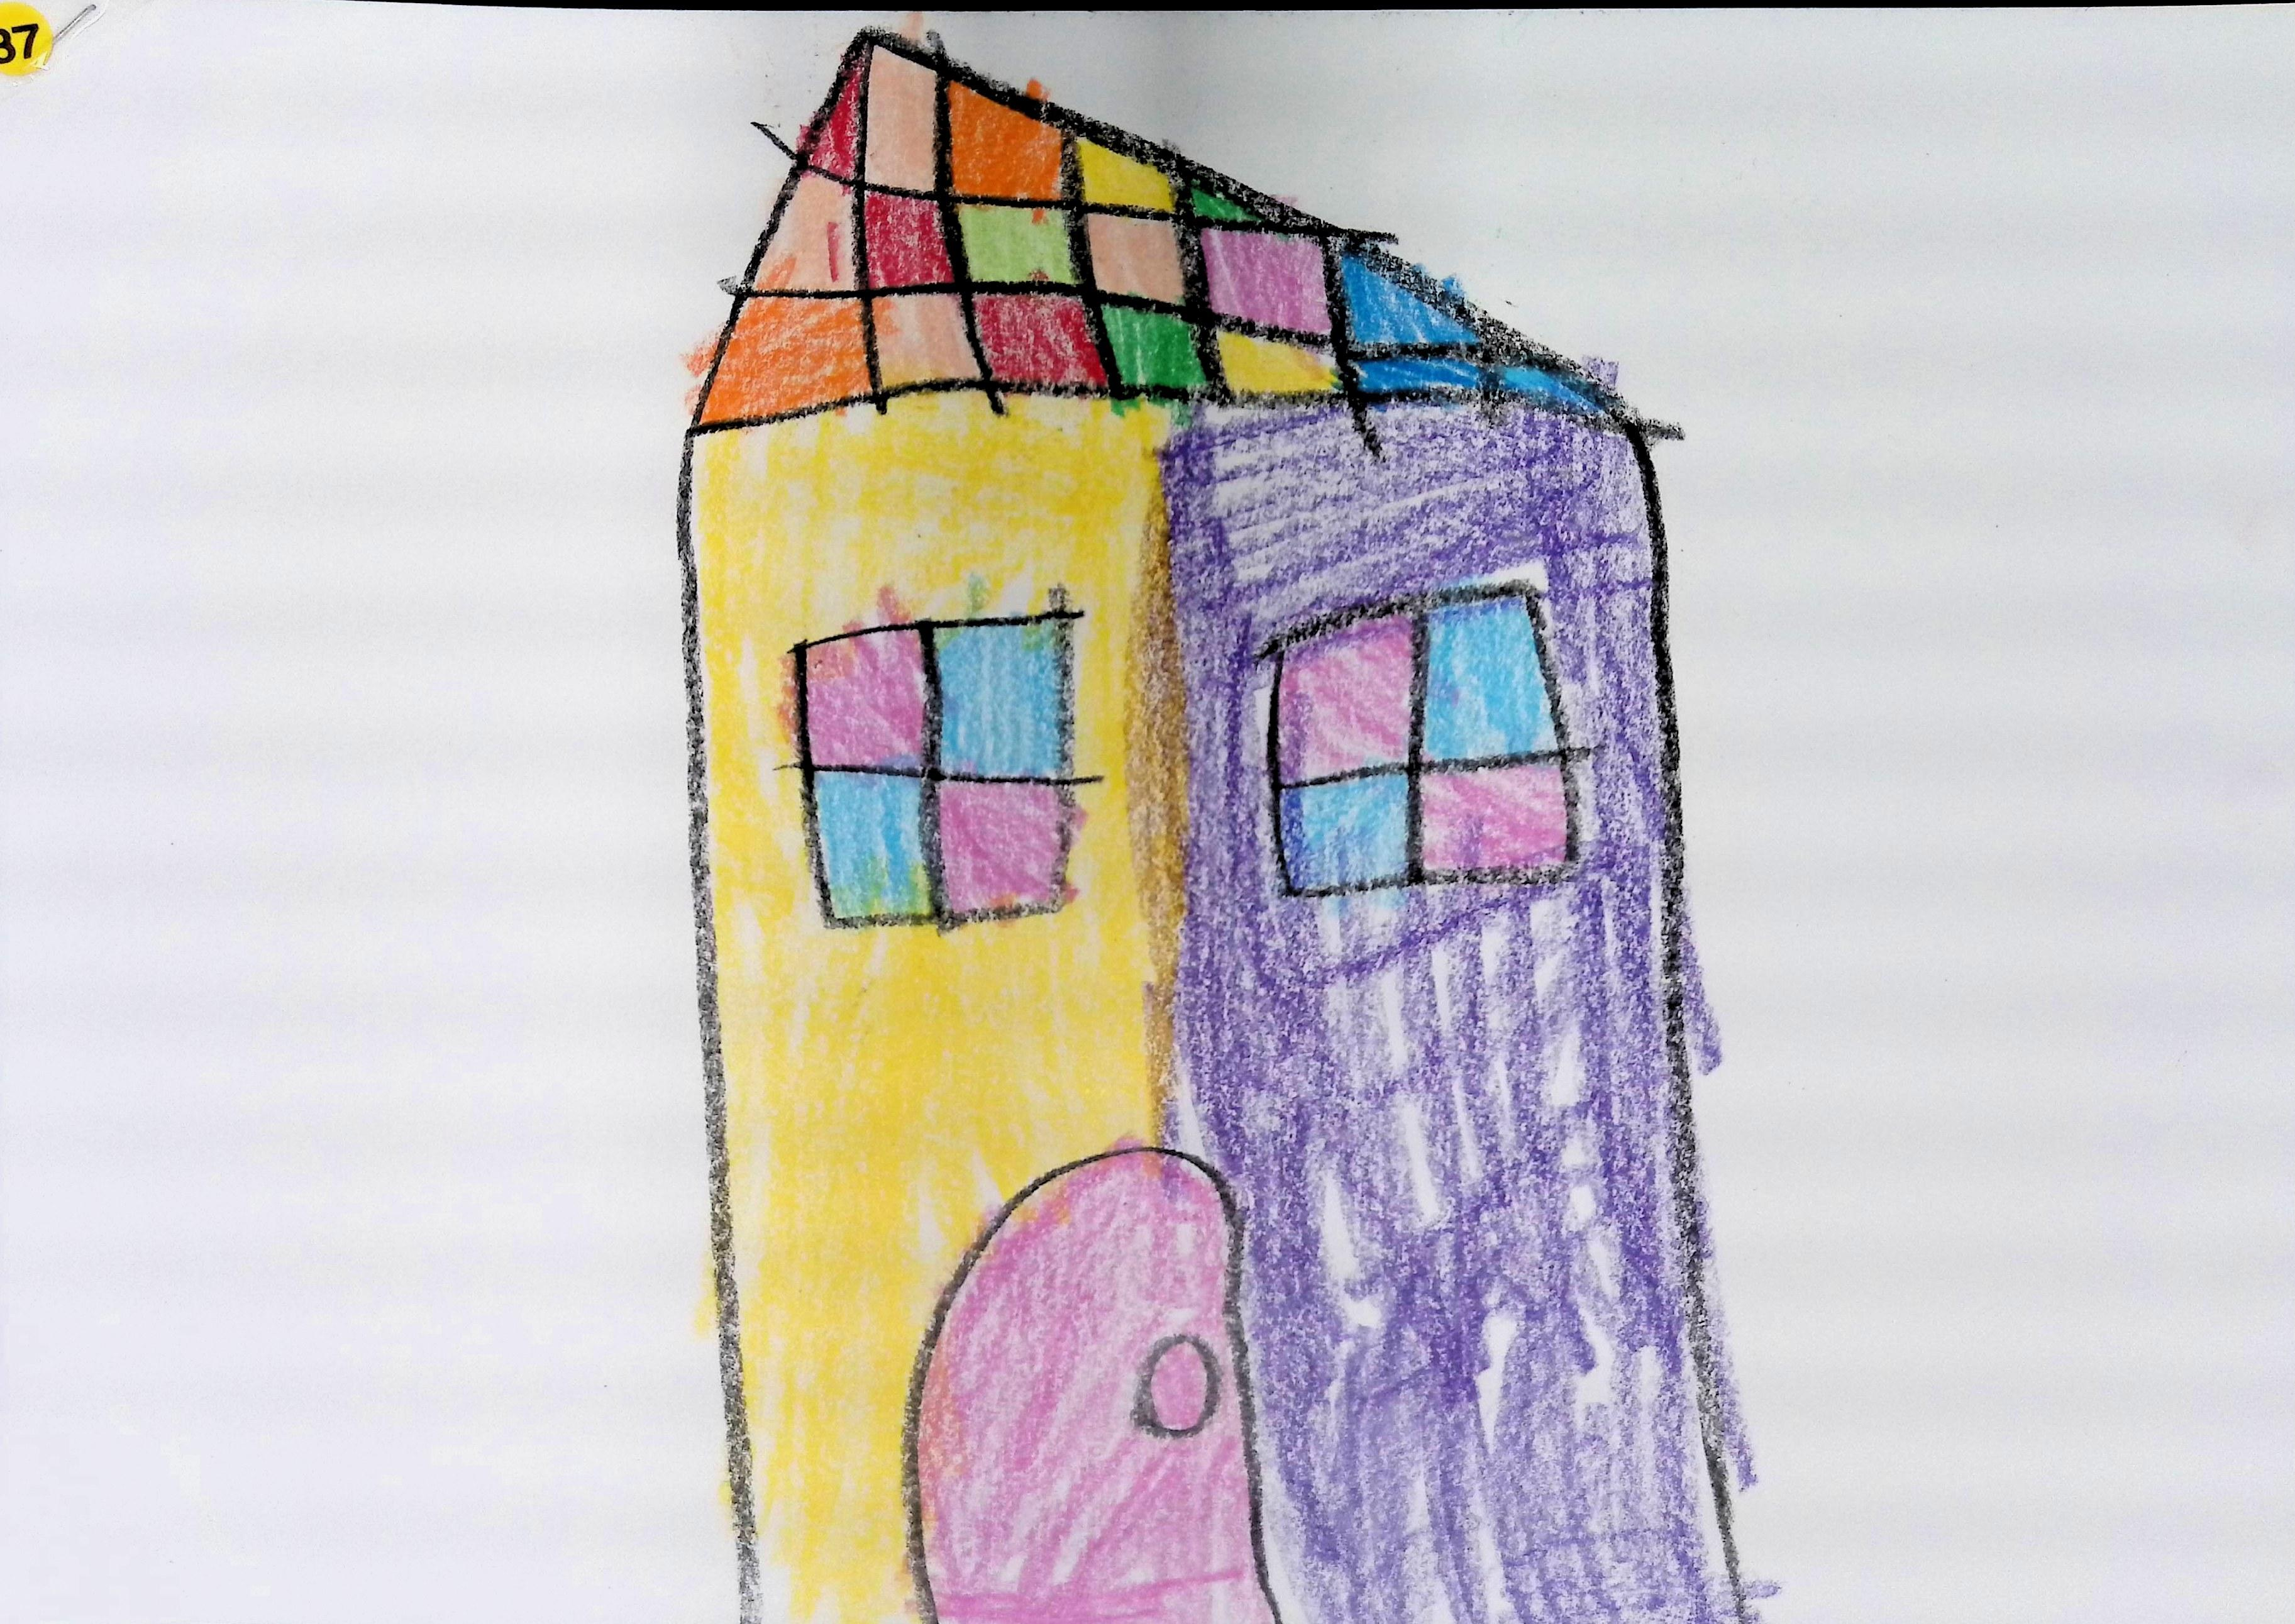door: (907, 1149, 1278, 1624)
house: (682, 28, 1750, 1624)
roof: (692, 28, 1622, 429)
wall: (682, 388, 1756, 1624)
window: (1271, 585, 1575, 895), (793, 603, 1081, 928)
